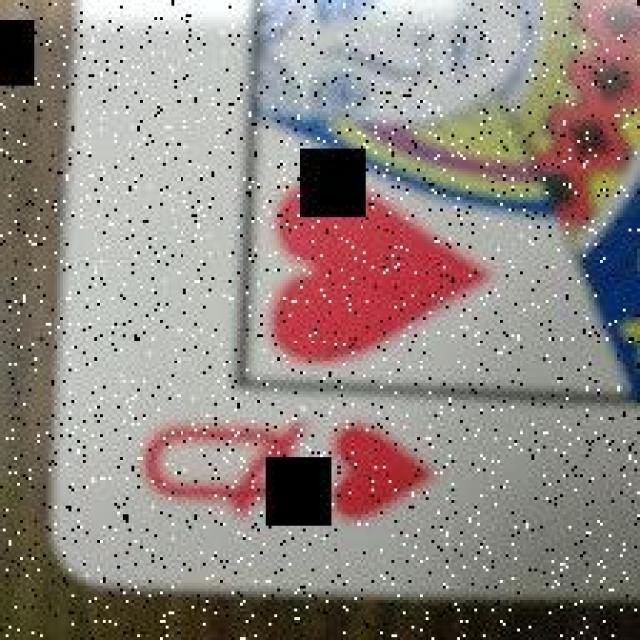Queen of hearts: (50, 0, 640, 598)
